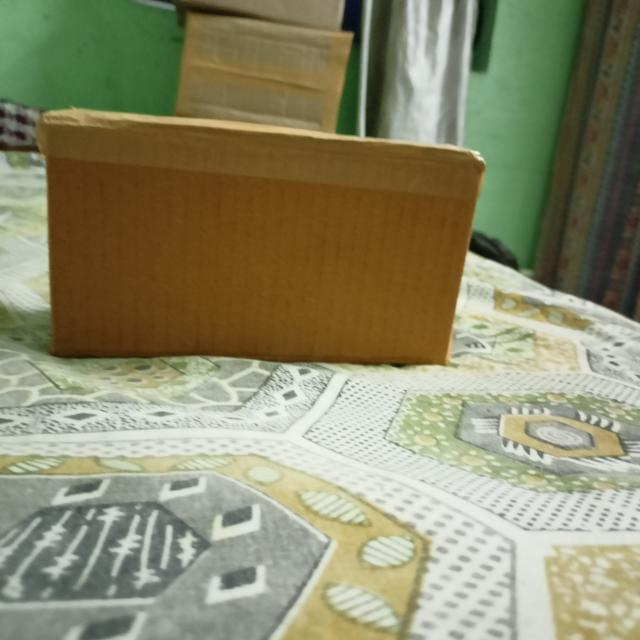box: (46, 119, 485, 353)
